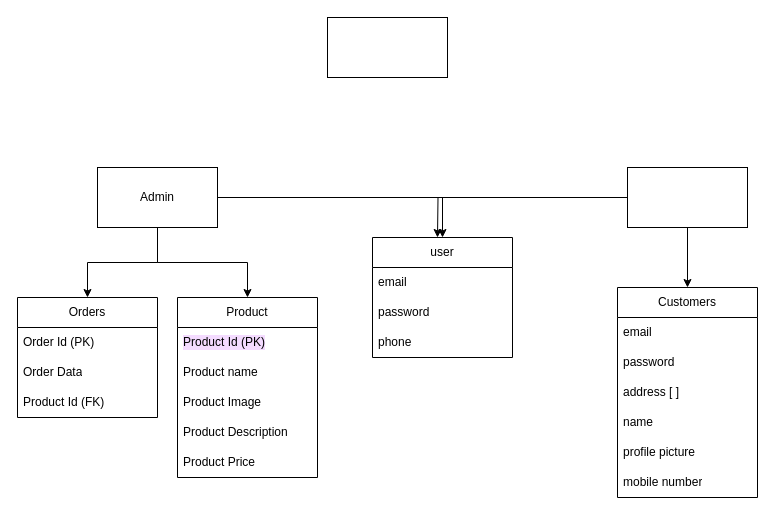
Some shapes in this 775 by 515 pixel diagram are drawn without their labels. Here are the shapes that lost their labels. From the top down, the box of each, then its label:
(326, 16, 448, 78): App Version Beta Flow
(626, 166, 748, 228): Users
